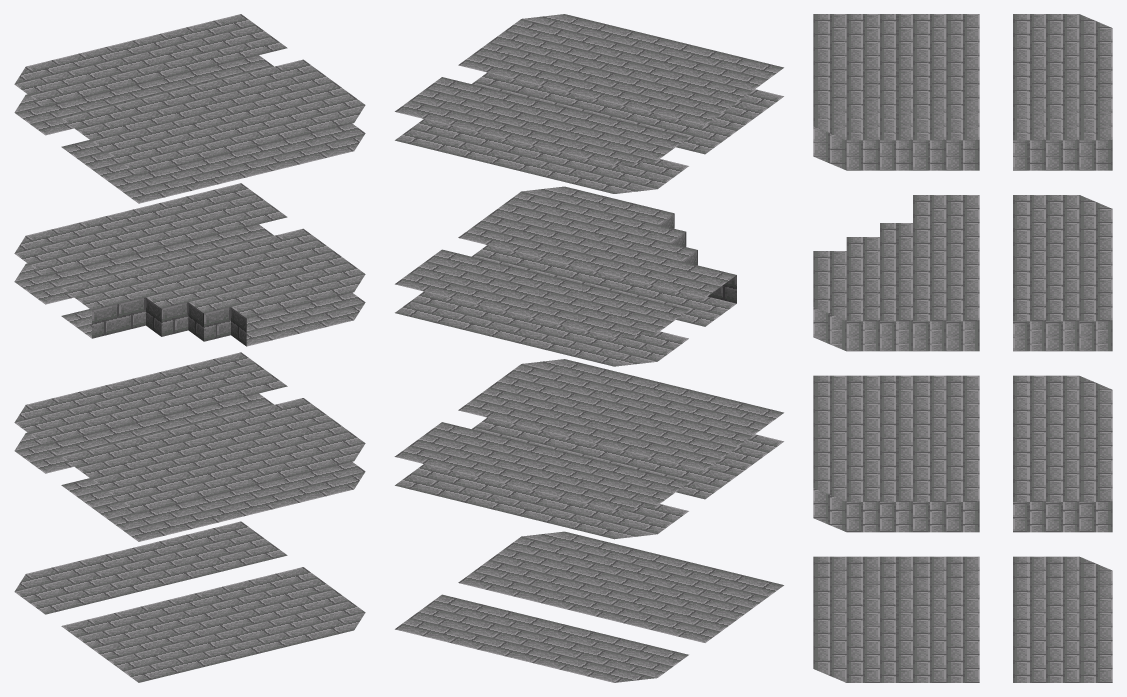
Rendered from Stone_Bricks_Chunk_7_11.fbx.
The picture shows the model from 3 angles, left to right: view 1: azimuth 30°, elevation 25°; view 2: azimuth 150°, elevation 25°; view 3: azimuth 270°, elevation 25°; orthographic projection. The views are drawn at different scales.
Parts seen in each view (by area): view 1: Stone_Bricks_Chunk_7_11; view 2: Stone_Bricks_Chunk_7_11; view 3: Stone_Bricks_Chunk_7_11.
Part boxes in pixels (<box>): Stone_Bricks_Chunk_7_11: <box>14,14,365,682</box>; Stone_Bricks_Chunk_7_11: <box>394,14,783,682</box>; Stone_Bricks_Chunk_7_11: <box>813,14,1112,682</box>.
Size of the model in its own units: 900 by 1800 by 900.
1 material, 1 textured.
